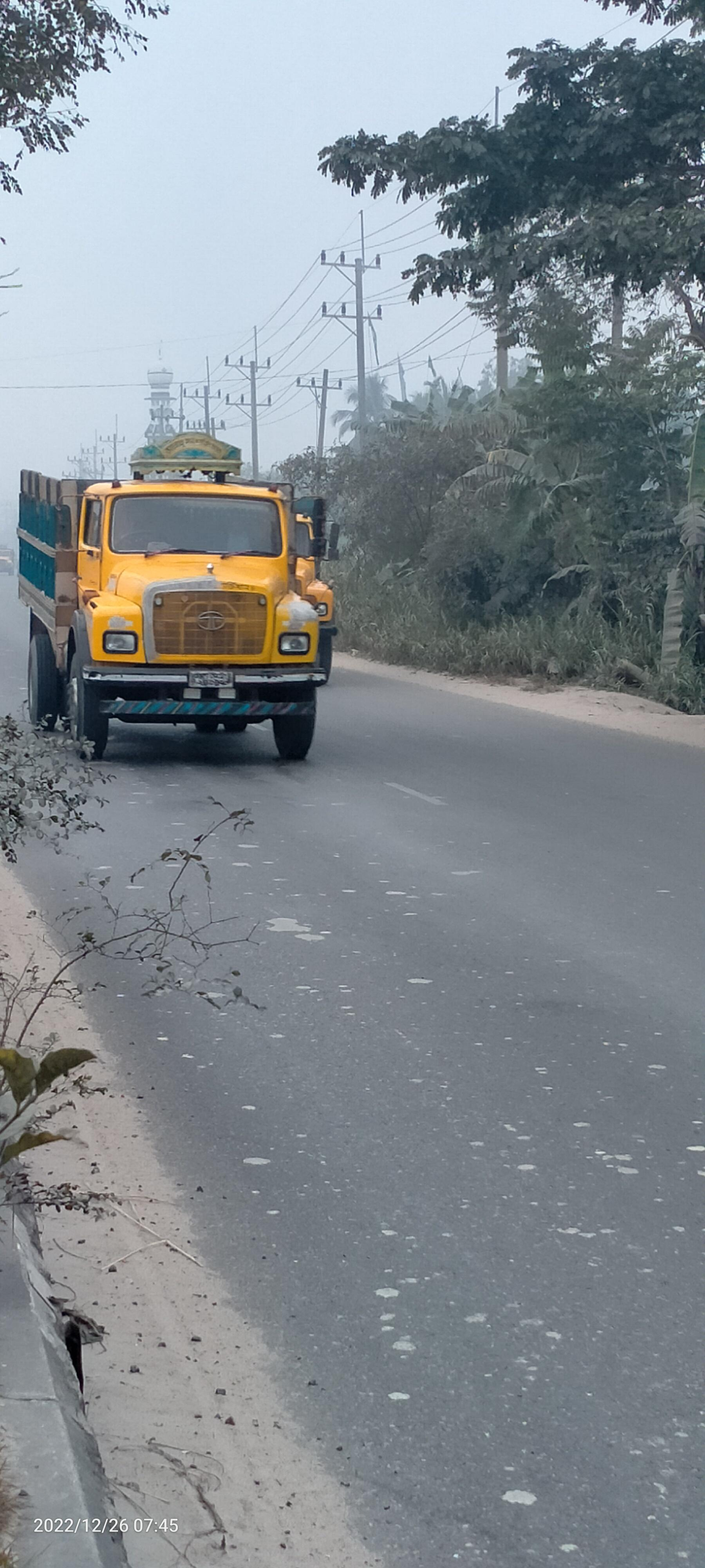Truck: (10, 429, 343, 777)
